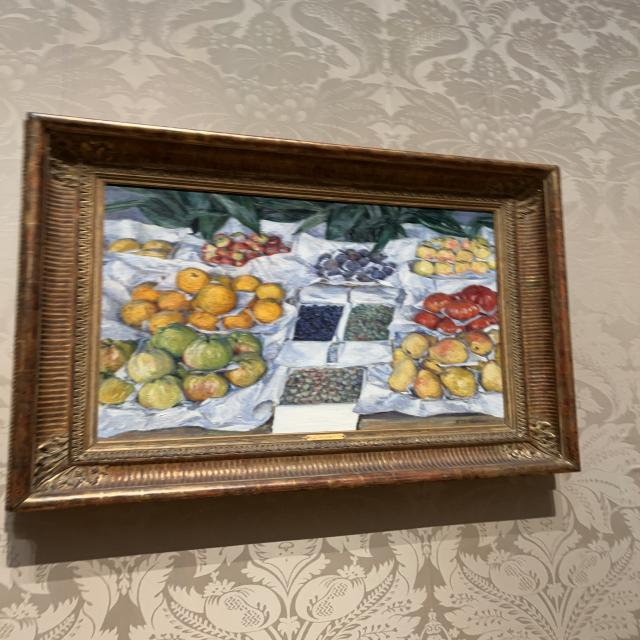fruits: (103, 188, 503, 436)
